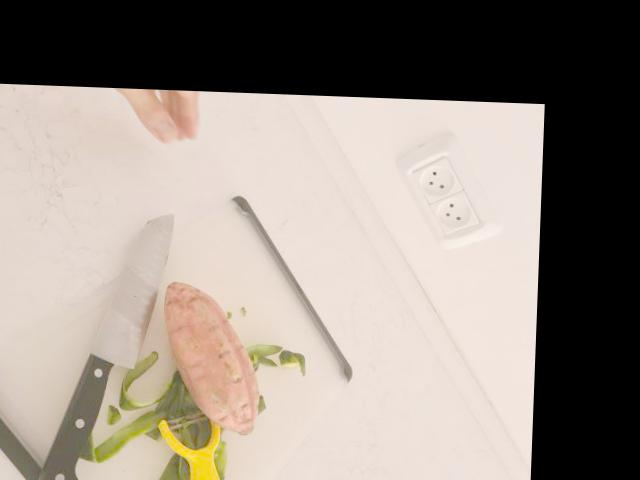sweet_potato: (157, 283, 262, 441)
